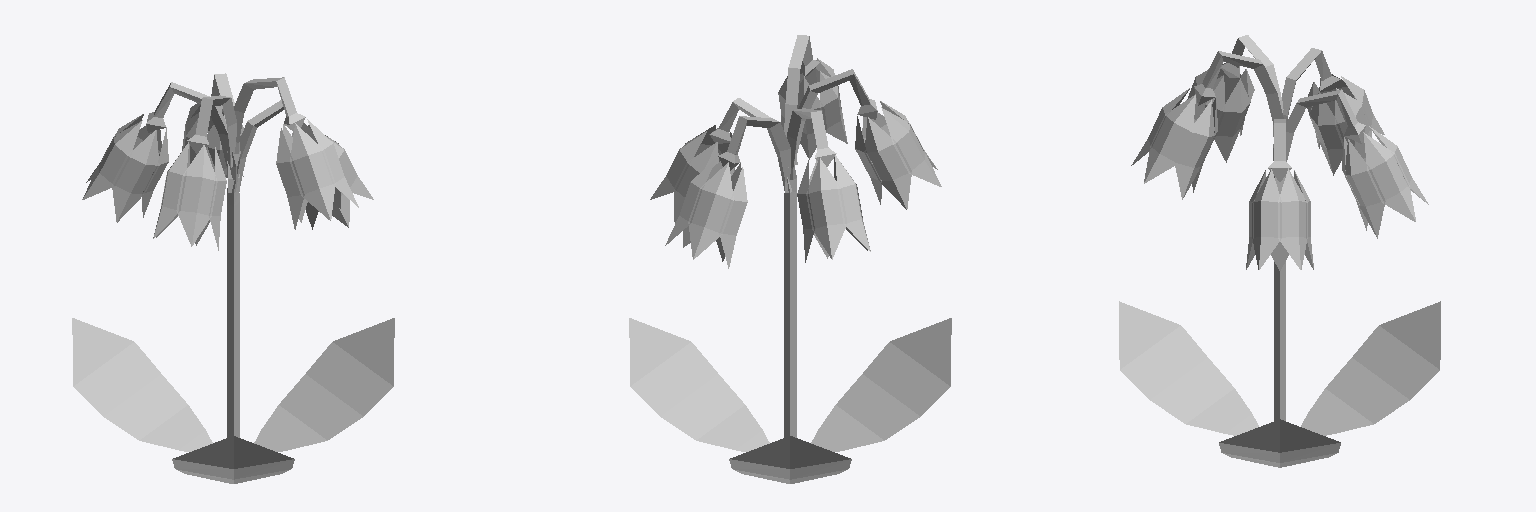
File: bluebells_0003.obj
3 renders of one model, left to right at view 1: azimuth 30°, elevation 25°; view 2: azimuth 150°, elevation 25°; view 3: azimuth 270°, elevation 25°, orthographic.
Visible parts, largest first — view 1: bluebells_0003; view 2: bluebells_0003; view 3: bluebells_0003.
Part boxes in pixels (x1,y1,x2,y2): bluebells_0003: (72, 73, 394, 483); bluebells_0003: (629, 35, 951, 483); bluebells_0003: (1119, 35, 1440, 467).
Bounding box in the file's own units: 2.25 × 3.1 × 2.27.